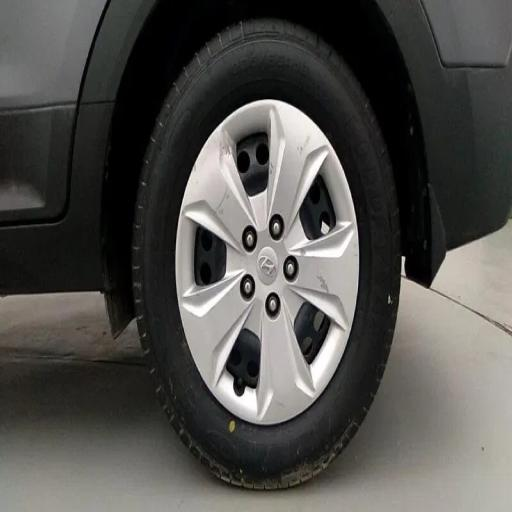wheel: (120, 0, 423, 512)
